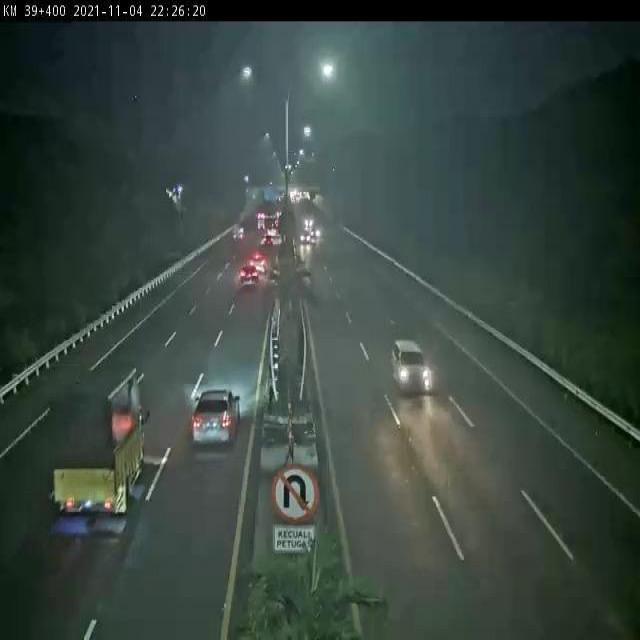car: (192, 391, 241, 445), (390, 338, 433, 398), (240, 261, 259, 283), (252, 256, 266, 273)
truck-m-: (47, 371, 148, 513)
